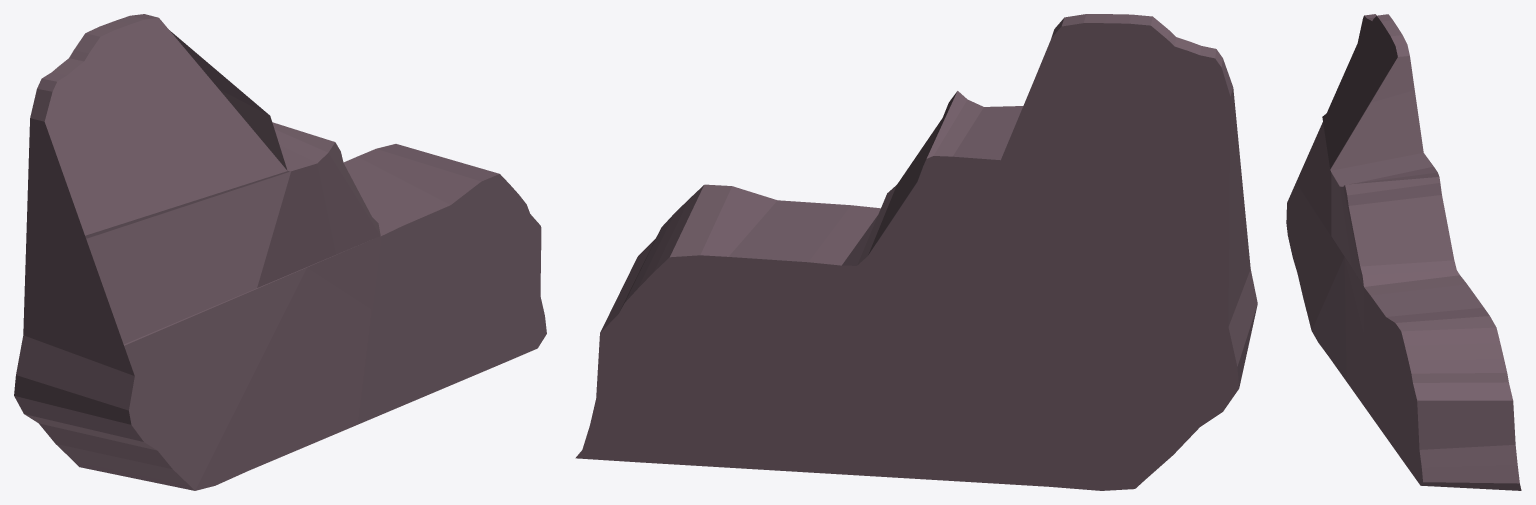
The model's file is SM_Rock_000.fbx.
3 views of the same model, side by side, from view 1: azimuth 30°, elevation 25°; view 2: azimuth 150°, elevation 25°; view 3: azimuth 270°, elevation 25° (orthographic). The views are drawn at different scales.
Visible parts, largest first — view 1: SM_Rock; view 2: SM_Rock; view 3: SM_Rock.
Boxes of the visible parts, x1,y1,x2,y2 form: SM_Rock: (14, 14, 546, 490); SM_Rock: (575, 14, 1257, 490); SM_Rock: (1286, 14, 1521, 490).
Bounding box in the file's own units: 925 × 1779 × 1393.
